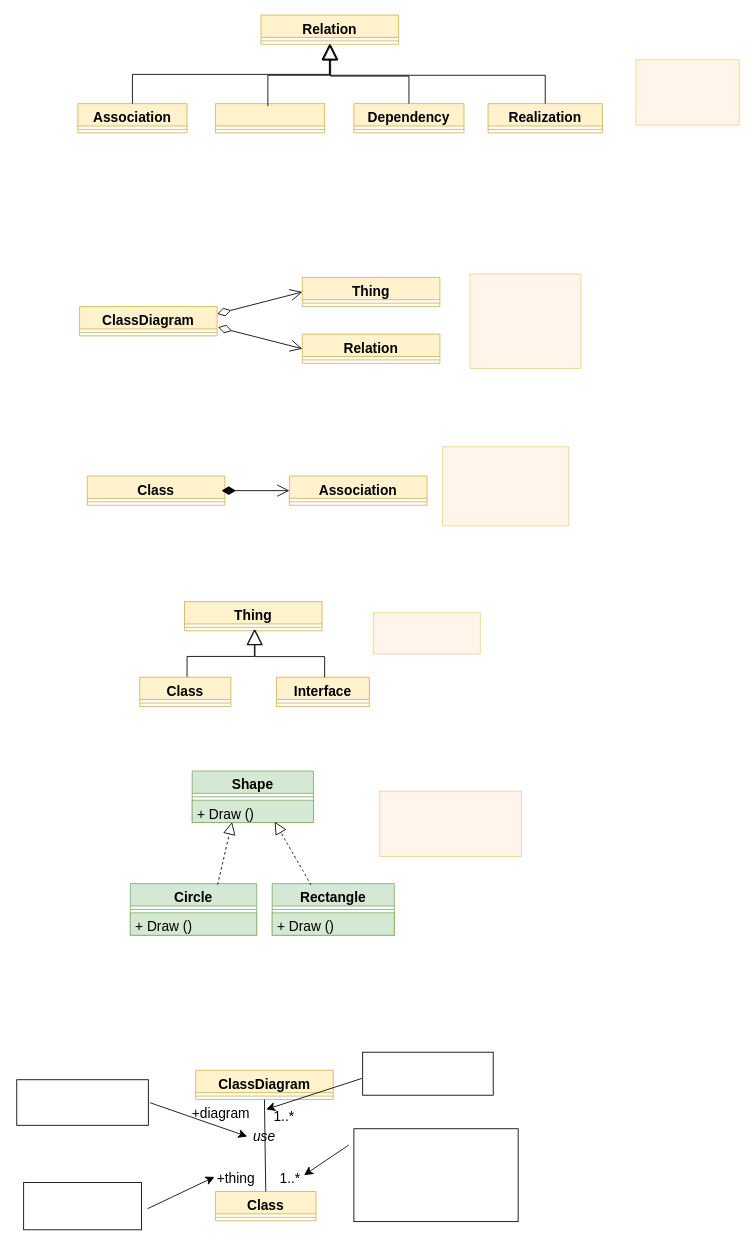
The diagram is 754 pixels wide and 1245 high, and some of its shapes have lost their labels. Here are the shapes that lost their labels. From the top down, the centre of each, then its label:
point (687, 92): 關聯、泛化、實現、依賴都是一種關係
point (270, 118): Generalization
point (525, 321): 類圖包含有事物和關係，類圖不存在了，事物和關係還可用於其他的類圖
point (505, 486): 類與關聯關係之間有組合關係，類不存在了，則相應的關聯關係也不存在
point (426, 633): 類、接口都是一種事物
point (450, 823): 類Circle、Rectangle實現了接口Shape的操作
point (427, 1073): 方向 雙向關聯(省略箭頭)
point (82, 1102): 名字 關係的名字是"使用"
point (435, 1175): 多重性 (用數字和**表示) 1..* :1個或多個 1個類圖有1個或多個類 1個類屬於1個或多個類圖
point (82, 1206): 角色 類的角色是"事物"
